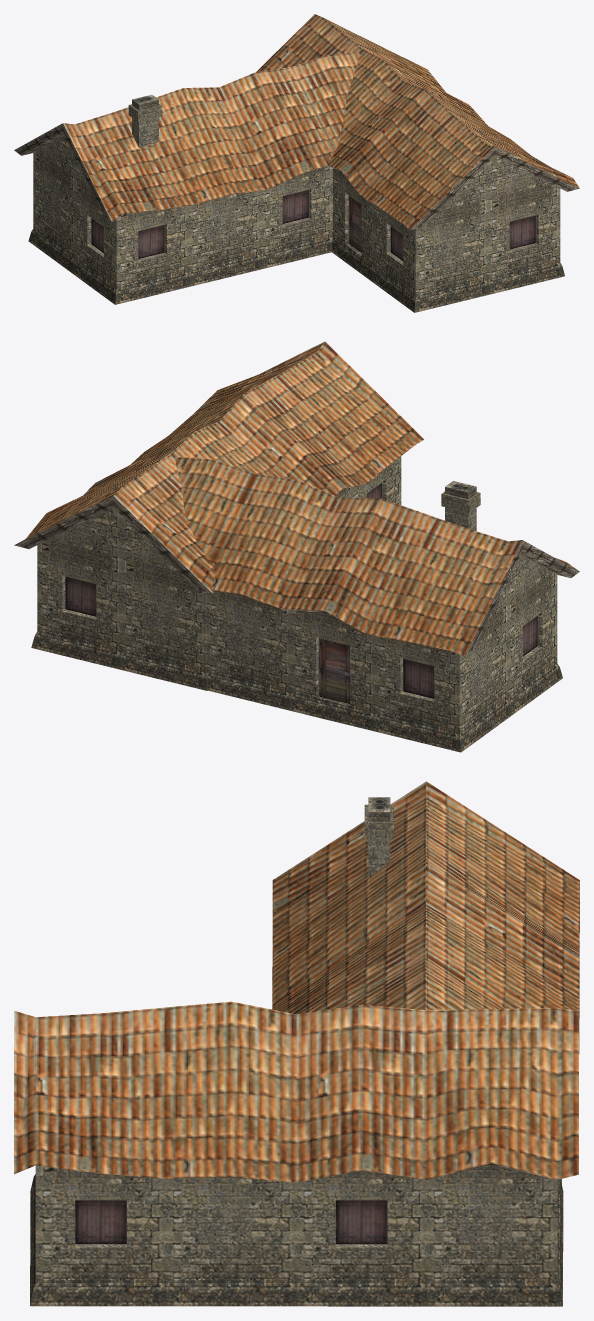
The model's file is s44_b_house_1_4.dae.
3 views of the same model, one above another, from view 1: azimuth 30°, elevation 25°; view 2: azimuth 150°, elevation 25°; view 3: azimuth 270°, elevation 25° (orthographic). The views are drawn at different scales.
Parts seen in each view (by area): view 1: Untitled; view 2: Untitled; view 3: Untitled.
Boxes of the visible parts, x1,y1,x2,y2 form: Untitled: (14,14,579,312); Untitled: (14,341,579,752); Untitled: (14,781,579,1306).
Size of the model in its own units: 128 by 104 by 54.08.
Materials: 1 (1 with a texture image).
